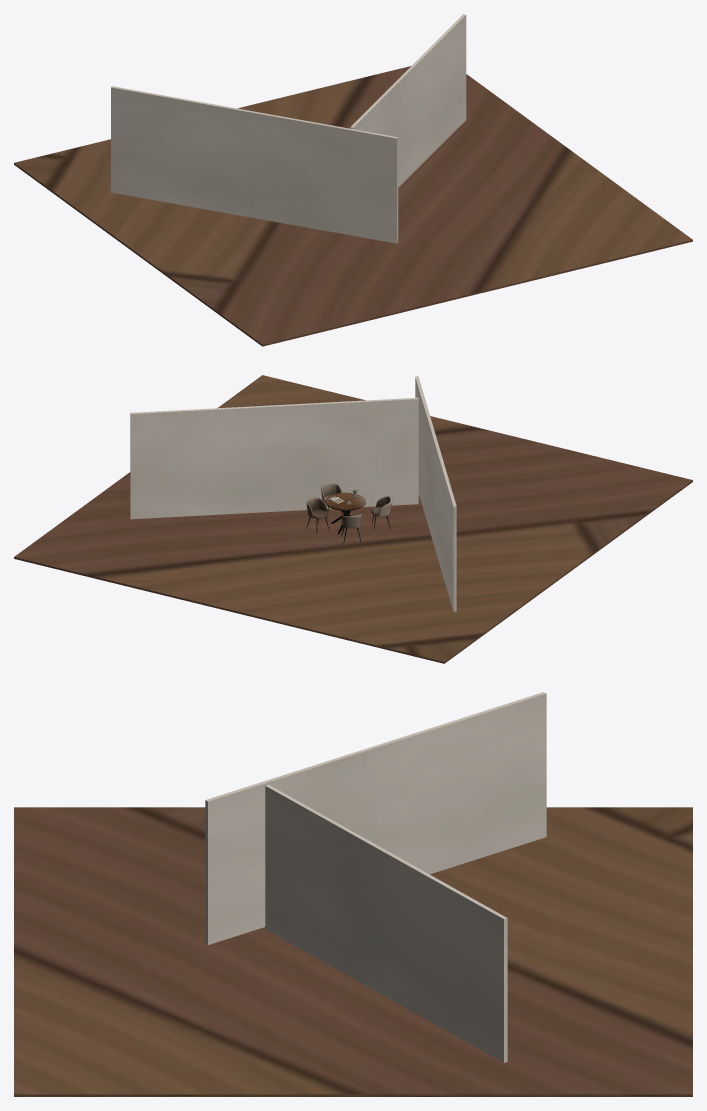
Rendered from ours.glb.
3 views of the same model, one above another, from view 1: azimuth 30°, elevation 25°; view 2: azimuth 150°, elevation 25°; view 3: azimuth 270°, elevation 25° (orthographic). The views are drawn at different scales.
Parts seen in each view (by area): view 1: floor_0, wall_1, wall_0; view 2: floor_0, wall_0, wall_1, obj_table_0, obj_chair_1; view 3: floor_0, wall_1, wall_0.
Part boxes in pixels (box(x1,y1,x2,y2)): floor_0: box(14, 66, 692, 346); wall_1: box(111, 86, 398, 243); wall_0: box(350, 14, 466, 187); floor_0: box(14, 375, 692, 663); wall_0: box(130, 397, 418, 519); wall_1: box(415, 376, 456, 611); obj_table_0: box(325, 492, 365, 534); obj_chair_1: box(306, 497, 328, 533); floor_0: box(14, 807, 692, 1096); wall_1: box(205, 692, 546, 944); wall_0: box(265, 784, 507, 1062).
Size of the model in its own units: 12 by 2.85 by 12.
12 materials, 12 textured.
